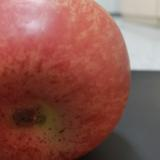apple: (1, 1, 131, 160)
